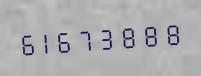eight: (122, 18, 142, 53), (164, 15, 184, 50), (143, 17, 163, 51)
one: (38, 24, 58, 58)
seven: (80, 21, 100, 55)
six: (17, 25, 37, 60), (59, 22, 79, 57)
three: (101, 19, 121, 54)
